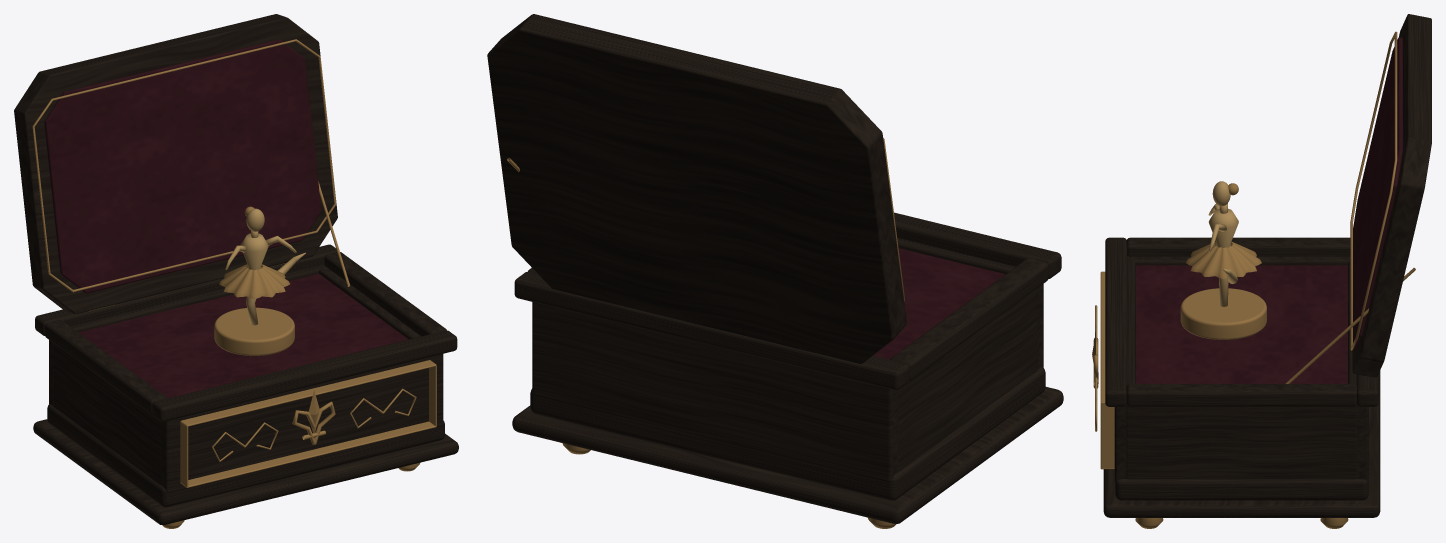
The model's file is gotico_caixa_musica.glb.
3 renders of one model, left to right at view 1: azimuth 30°, elevation 25°; view 2: azimuth 150°, elevation 25°; view 3: azimuth 270°, elevation 25°, orthographic. The views are drawn at different scales.
Visible parts, largest first — view 1: caixa_musica; view 2: caixa_musica; view 3: caixa_musica.
Part boxes in pixels (<box>): caixa_musica: <box>14,14,458,528</box>; caixa_musica: <box>487,14,1063,528</box>; caixa_musica: <box>1092,14,1431,528</box>.
Size of the model in its own units: 0.37 by 0.4254 by 0.3379.
Materials: 4 (2 with a texture image).
